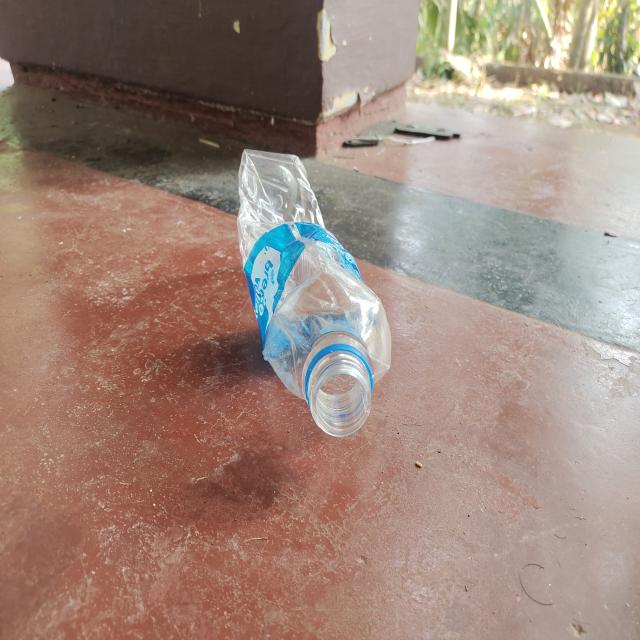plastic: (233, 143, 394, 440)
